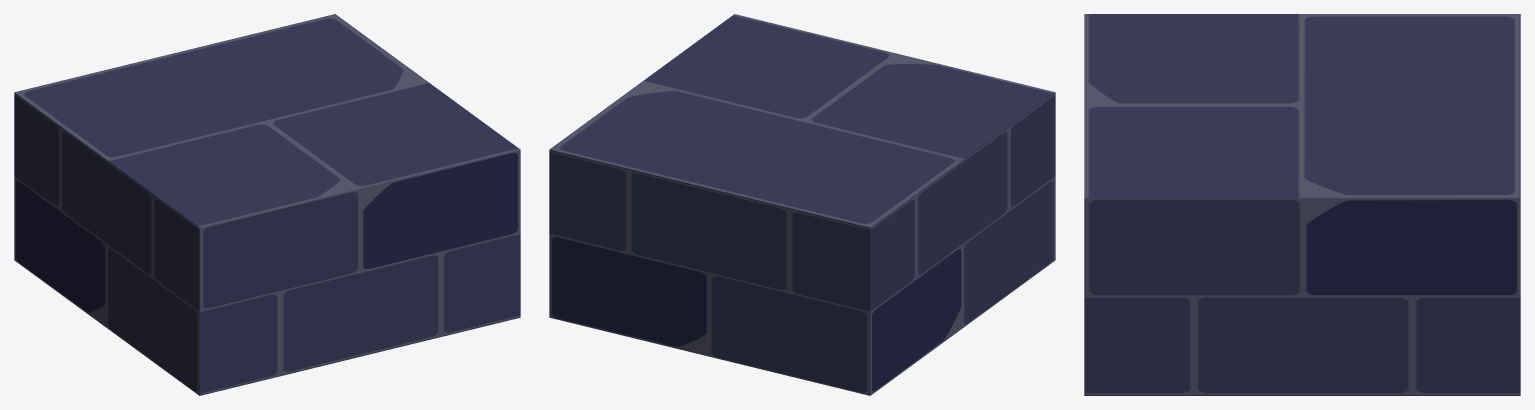
The model's file is Cubes.fbx.
3 views of the same model, side by side, from view 1: azimuth 30°, elevation 25°; view 2: azimuth 150°, elevation 25°; view 3: azimuth 270°, elevation 25° (orthographic). The views are drawn at different scales.
Parts seen in each view (by area): view 1: Box003; view 2: Box003; view 3: Box003.
Part boxes in pixels (left/top/right/bottom): Box003: left=14, top=14, right=520, bottom=395; Box003: left=549, top=14, right=1055, bottom=395; Box003: left=1084, top=14, right=1520, bottom=395.
Bounding box in the file's own units: 100 × 50 × 100.
1 material, 1 textured.
